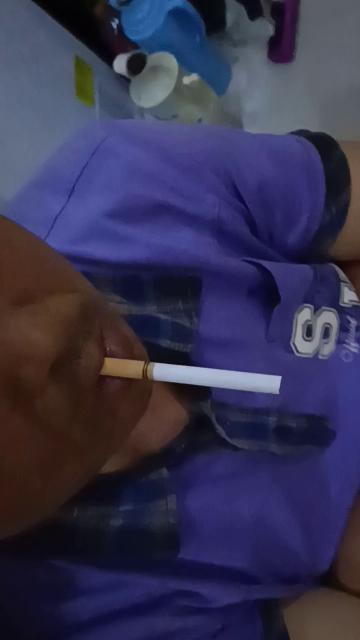Cigarette: (101, 359, 285, 396)
